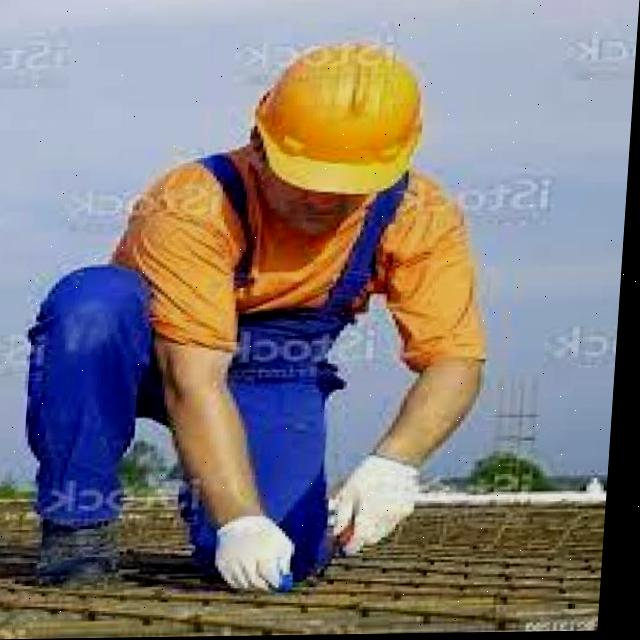Gloves: (332, 455, 430, 558), (220, 515, 306, 596)
Helmet: (246, 38, 434, 194)
Safety-Boot: (42, 516, 133, 586)
Safety-Vest: (126, 154, 418, 587)
